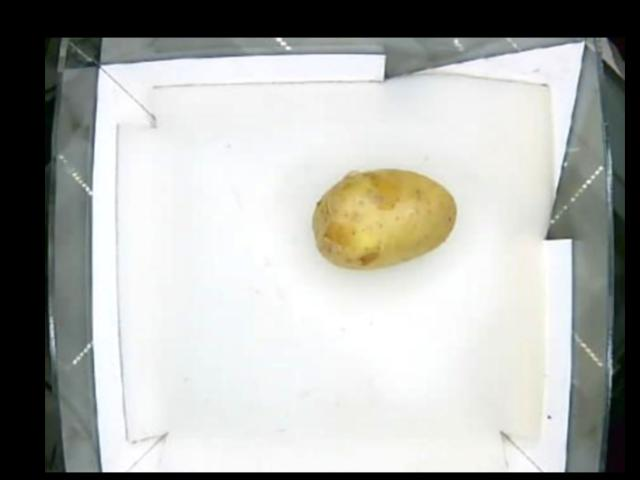Potato: (309, 166, 457, 273)
